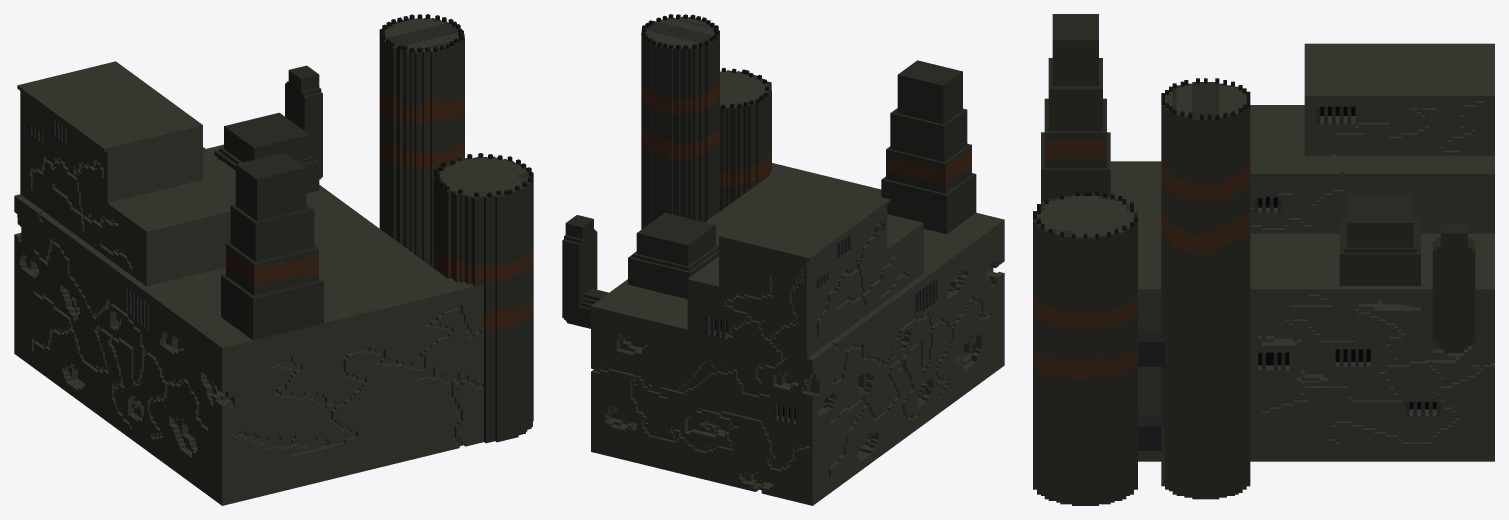
File: factory.glb
3 views of the same model, side by side, from view 1: azimuth 30°, elevation 25°; view 2: azimuth 150°, elevation 25°; view 3: azimuth 270°, elevation 25° (orthographic). The views are drawn at different scales.
Visible parts, largest first — view 1: factory1; view 2: factory1; view 3: factory1.
Part boxes in pixels (x1=…): factory1: x1=14, y1=14, x2=533, y2=505; factory1: x1=562, y1=14, x2=1004, y2=505; factory1: x1=1033, y1=14, x2=1494, y2=505.
Bounding box in the file's own units: 10.5 × 10.9 × 11.9.
Materials: 1 (1 with a texture image).
